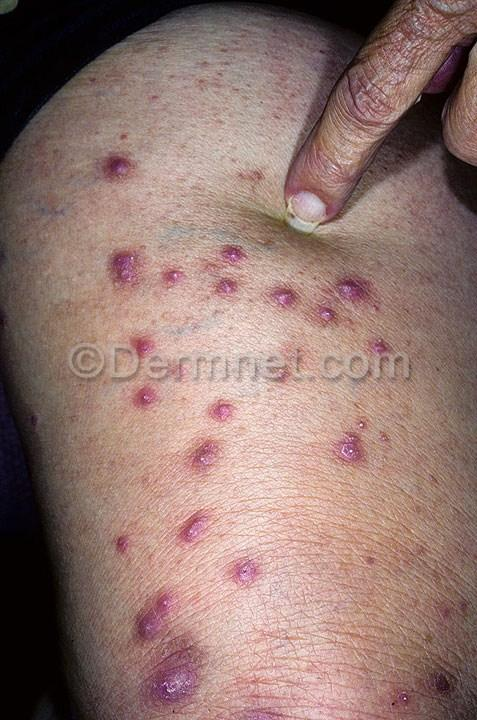Eczema: (25, 92, 277, 340), (95, 395, 263, 620), (243, 386, 438, 566), (272, 214, 477, 356), (355, 572, 477, 720), (113, 619, 247, 720), (245, 651, 353, 719)
